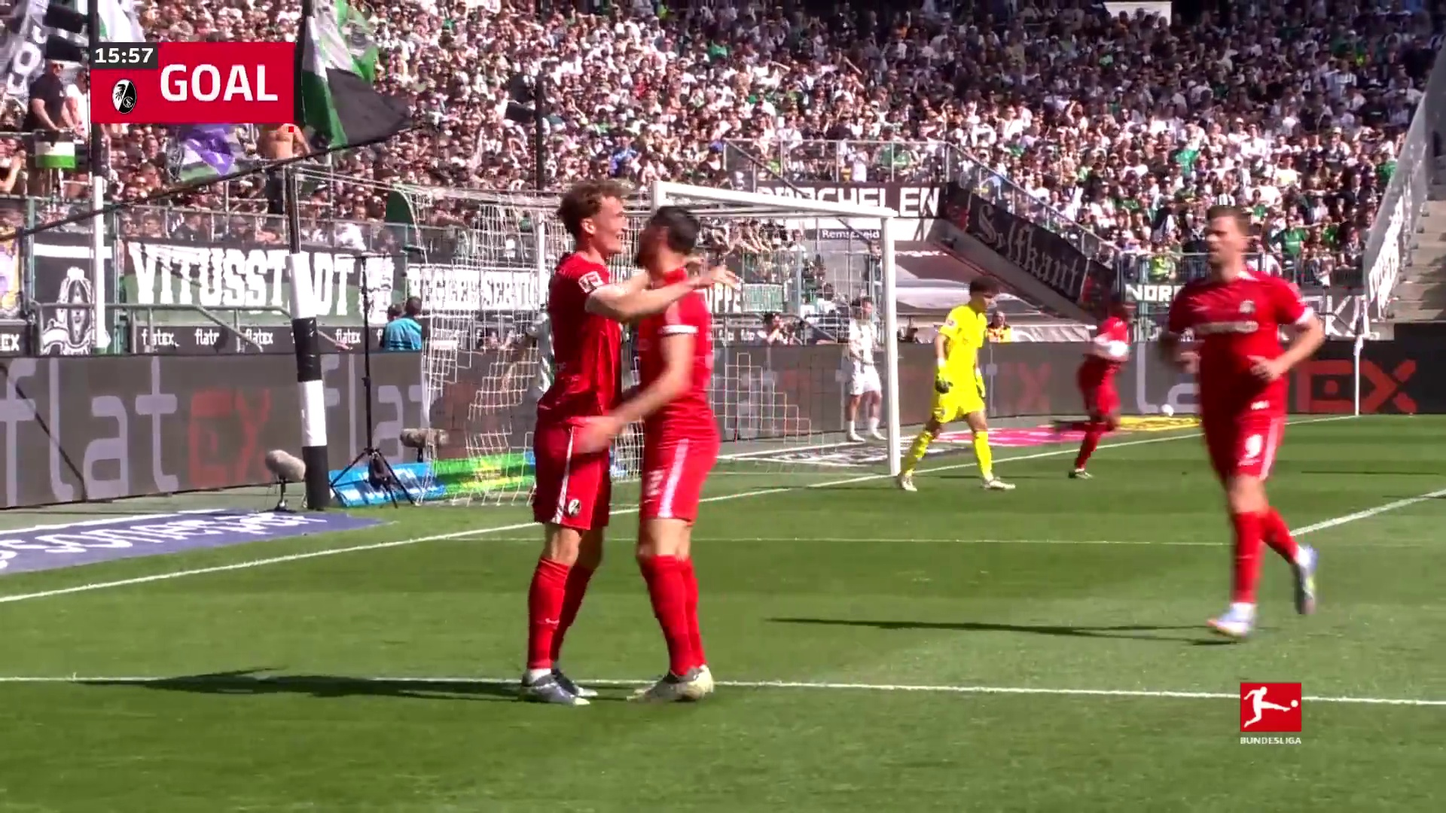ball: (1105, 339, 1130, 359)
player: (513, 175, 739, 707), (569, 193, 723, 697), (1154, 202, 1330, 641), (896, 274, 1017, 491), (1068, 293, 1149, 484)
